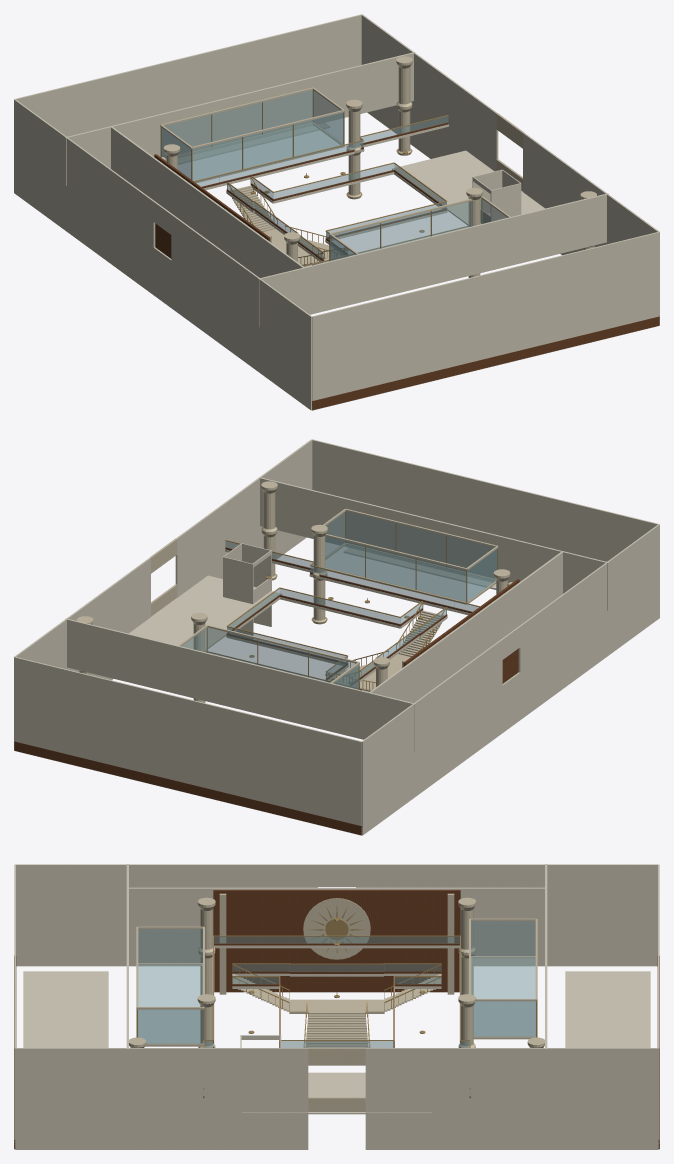
File: AST-ARR-002.glb
3 views of the same model, one above another, from view 1: azimuth 30°, elevation 25°; view 2: azimuth 150°, elevation 25°; view 3: azimuth 270°, elevation 25° (orthographic). The views are drawn at different scales.
Visible parts, largest first — view 1: ARR_OuterEnd_-398.15, ARR_OuterEnd_-465.85, ARR_OpaqueServiceScreen_1, ARR_WestLowerOpaque, ARR_OpaqueServiceScreen_0, ARR_EastEnclosure_-465.85, ARR_OpaqueServiceScreen_2, ARR_WestServiceEnclosure_-430, ARR_WestServiceEnclosure_-465.85, ARR_ExhibitGlassSide_0.002, ARR_EastEnclosure_-429, ARR_ExhibitGlassSide_0 (+15 smaller); view 2: ARR_OuterEnd_-465.85, ARR_OuterEnd_-398.15, ARR_OpaqueServiceScreen_0, ARR_WestLowerOpaque, ARR_OpaqueServiceScreen_1, ARR_OpaqueServiceScreen_2, ARR_EastEnclosure_-429, ARR_WestServiceEnclosure_-465.85, ARR_WestServiceEnclosure_-430, ARR_EastEnclosure_-465.85, ARR_HospitalityCanopy_0, ARR_ExhibitGlassSide_1 (+13 smaller); view 3: ARR_EastEnclosure_-465.85, ARR_EastEnclosure_-429, ARR_StairFocalWall, ARR_WestLowerOpaque, ARR_WestServiceEnclosure_-465.85, ARR_WestServiceEnclosure_-430, ARR_OpaqueServiceScreen_2, ARR_HospitalityCanopy_1, ARR_HospitalityCanopy_2, ARR_ExhibitGlassBelly_0, ARR_ExhibitGlassBelly_1, ARR_EmblemBackplate (+27 smaller).
Part boxes in pixels (box(x1,y1,x2,y2)): ARR_OuterEnd_-398.15: box(312, 232, 659, 410); ARR_OuterEnd_-465.85: box(14, 14, 361, 136); ARR_OpaqueServiceScreen_1: box(258, 193, 608, 327); ARR_WestLowerOpaque: box(14, 145, 311, 410); ARR_OpaqueServiceScreen_0: box(65, 52, 415, 185); ARR_EastEnclosure_-465.85: box(361, 14, 498, 171); ARR_OpaqueServiceScreen_2: box(111, 127, 304, 277); ARR_WestServiceEnclosure_-430: box(171, 214, 311, 362); ARR_WestServiceEnclosure_-465.85: box(14, 99, 155, 247); ARR_ExhibitGlassSide_0.002: box(192, 112, 343, 180); ARR_EastEnclosure_-429: box(523, 133, 659, 324); ARR_ExhibitGlassSide_0: box(162, 90, 312, 157); ARR_OuterEnd_-465.85: box(14, 657, 361, 835); ARR_OuterEnd_-398.15: box(312, 439, 659, 561); ARR_OpaqueServiceScreen_0: box(65, 618, 415, 752); ARR_WestLowerOpaque: box(362, 570, 659, 835); ARR_OpaqueServiceScreen_1: box(258, 477, 608, 610); ARR_OpaqueServiceScreen_2: box(369, 552, 562, 702); ARR_EastEnclosure_-429: box(175, 439, 312, 597); ARR_WestServiceEnclosure_-465.85: box(362, 639, 502, 787); ARR_WestServiceEnclosure_-430: box(518, 524, 659, 672); ARR_EastEnclosure_-465.85: box(14, 558, 150, 749); ARR_HospitalityCanopy_0: box(129, 575, 281, 650); ARR_ExhibitGlassSide_1: box(325, 536, 466, 601); ARR_EastEnclosure_-465.85: box(365, 1048, 658, 1149); ARR_EastEnclosure_-429: box(15, 1048, 308, 1149); ARR_StairFocalWall: box(213, 890, 460, 992); ARR_WestLowerOpaque: box(16, 914, 657, 966); ARR_WestServiceEnclosure_-465.85: box(356, 864, 658, 914); ARR_WestServiceEnclosure_-430: box(15, 864, 317, 914); ARR_OpaqueServiceScreen_2: box(128, 887, 544, 940); ARR_HospitalityCanopy_1: box(565, 971, 650, 1047); ARR_HospitalityCanopy_2: box(23, 971, 108, 1047); ARR_ExhibitGlassBelly_0: box(471, 957, 535, 1035); ARR_ExhibitGlassBelly_1: box(138, 964, 202, 1043); ARR_EmblemBackplate: box(303, 898, 370, 959).
Bounding box in the file's own units: 46 × 12 × 67.95.
6 materials, 4 textured.
